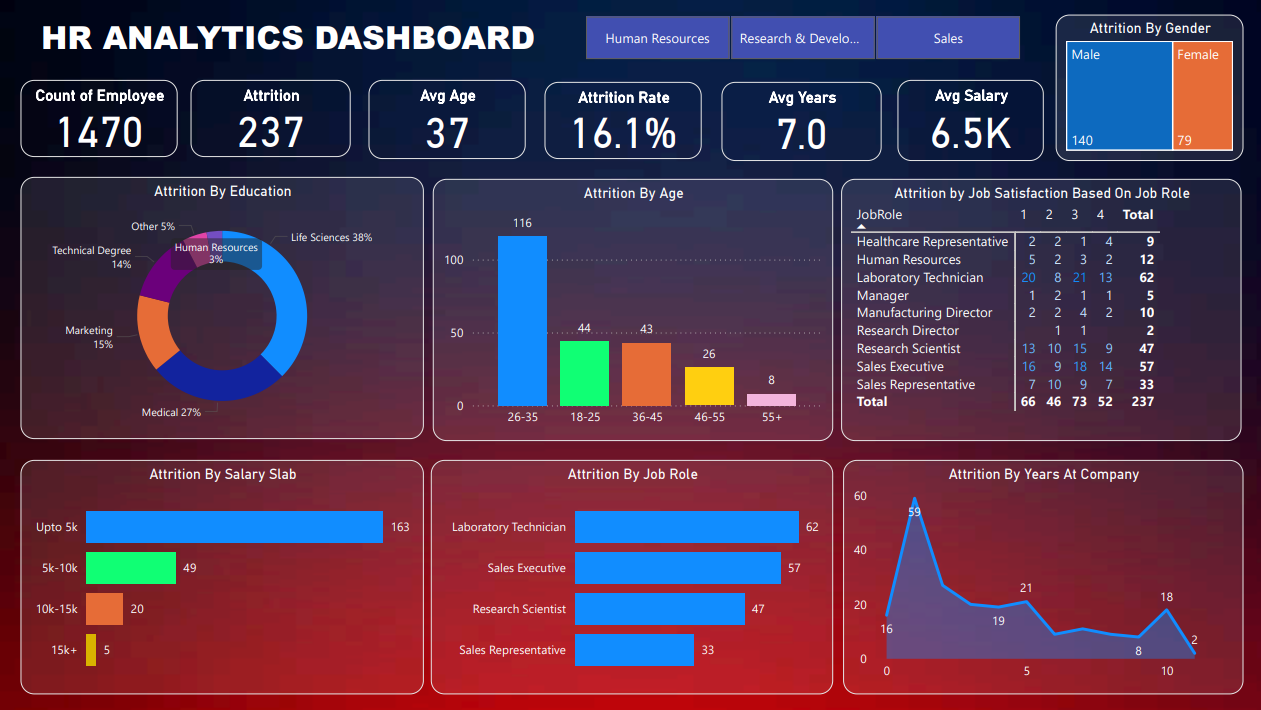

Layout of this report page (visuals, bound fields, positions):
{"tool":"powerbi","page":{"name":"Page 1","canvas":[1280,720],"ordinal":0},"visuals":[{"type":"card","title":"Count of Employee","fields":{"Values":["CountNonNull(HR_Analytics.EmpID)"]},"box":[22.2,83.3,159.3,77.8],"z":0},{"type":"card","title":"Attrition","fields":{"Values":["HR_Analytics.AttritionCountTotal"]},"box":[194.4,83.3,161.1,77.8],"z":1000},{"type":"card","title":"Avg Age","fields":{"Values":["Avg(HR_Analytics.Age)"]},"box":[374.1,83.3,159.3,79.6],"z":2000},{"type":"card","title":"Attrition Rate","fields":{"Values":["HR_Analytics.AttritionRate"]},"box":[551.9,85.2,159.3,77.8],"z":3000},{"type":"card","title":"Avg Years","fields":{"Values":["Avg(HR_Analytics.YearsAtCompany)"]},"box":[731.5,85.2,161.1,79.6],"z":4000},{"type":"card","title":"Avg Salary","fields":{"Values":["Avg(HR_Analytics.MonthlyIncome)"]},"box":[909.3,83.3,148.1,81.5],"z":5000},{"type":"donutChart","title":"Attrition By Education","fields":{"Category":["HR_Analytics.EducationField"],"Y":["HR_Analytics.AttritionCountTotal"]},"box":[22.2,181.5,407.4,264.8],"z":6000},{"type":"columnChart","title":"Attrition By Age","fields":{"Category":["HR_Analytics.AgeGroup"],"Y":["HR_Analytics.AttritionCountTotal"]},"box":[438.9,183.3,405.6,264.8],"z":7000},{"type":"pivotTable","title":"Attrition by Job Satisfaction Based On Job Role","fields":{"Rows":["HR_Analytics.JobRole"],"Columns":["HR_Analytics.JobSatisfaction"],"Values":["HR_Analytics.AttritionCountTotal"]},"box":[851.9,183.3,405.6,264.8],"z":8000},{"type":"barChart","title":"Attrition By Salary Slab","fields":{"Category":["HR_Analytics.SalarySlab"],"Y":["HR_Analytics.AttritionCountTotal"]},"box":[22.2,466.7,407.4,237],"z":9000},{"type":"barChart","title":"Attrition By Job Role","fields":{"Y":["HR_Analytics.AttritionCountTotal"],"Category":["HR_Analytics.JobRole"]},"box":[437,466.7,407.4,237],"z":10000},{"type":"areaChart","title":"Attrition By Years At Company","fields":{"Category":["HR_Analytics.YearsAtCompany"],"Y":["HR_Analytics.AttritionCountTotal"]},"box":[853.7,466.7,405.6,237],"z":11000},{"type":"treemap","title":"Attrition By Gender","fields":{"Group":["HR_Analytics.Gender"],"Values":["HR_Analytics.AttritionCountTotal"]},"box":[1068.5,16.7,190.7,148.1],"z":12000},{"type":"slicer","fields":{"Values":["HR_Analytics.Department"]},"box":[567.9,11.7,488.9,57.4],"z":12001},{"type":"textbox","box":[38.3,11.7,513,55.6],"z":12002}]}

Visuals, with their boxes in screenshot pixels (x1, y1, x2, y2), scaled from the page's 1280x720 canvas onto the 1261x710 screenshot:
"Count of Employee" card: select_region(22, 82, 179, 159)
"Attrition" card: select_region(192, 82, 350, 159)
"Avg Age" card: select_region(369, 82, 525, 161)
"Attrition Rate" card: select_region(544, 84, 701, 161)
"Avg Years" card: select_region(721, 84, 879, 163)
"Avg Salary" card: select_region(896, 82, 1042, 163)
"Attrition By Education" donutChart: select_region(22, 179, 423, 440)
"Attrition By Age" columnChart: select_region(432, 181, 832, 442)
"Attrition by Job Satisfaction Based On Job Role" pivotTable: select_region(839, 181, 1239, 442)
"Attrition By Salary Slab" barChart: select_region(22, 460, 423, 694)
"Attrition By Job Role" barChart: select_region(431, 460, 832, 694)
"Attrition By Years At Company" areaChart: select_region(841, 460, 1241, 694)
"Attrition By Gender" treemap: select_region(1053, 16, 1241, 163)
slicer - HR_Analytics.Department: select_region(559, 12, 1041, 68)
textbox: select_region(38, 12, 543, 66)
